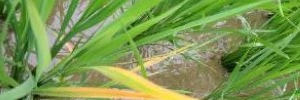RiceTungro: (41, 73, 189, 100)
